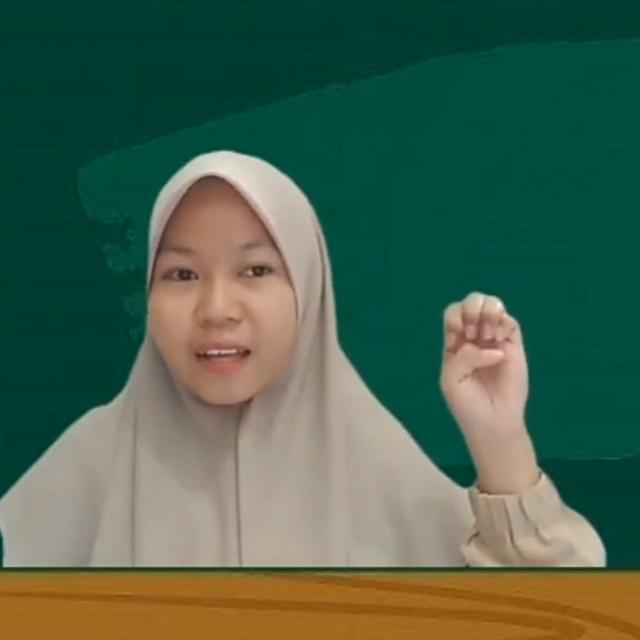E: (440, 291, 532, 434)
